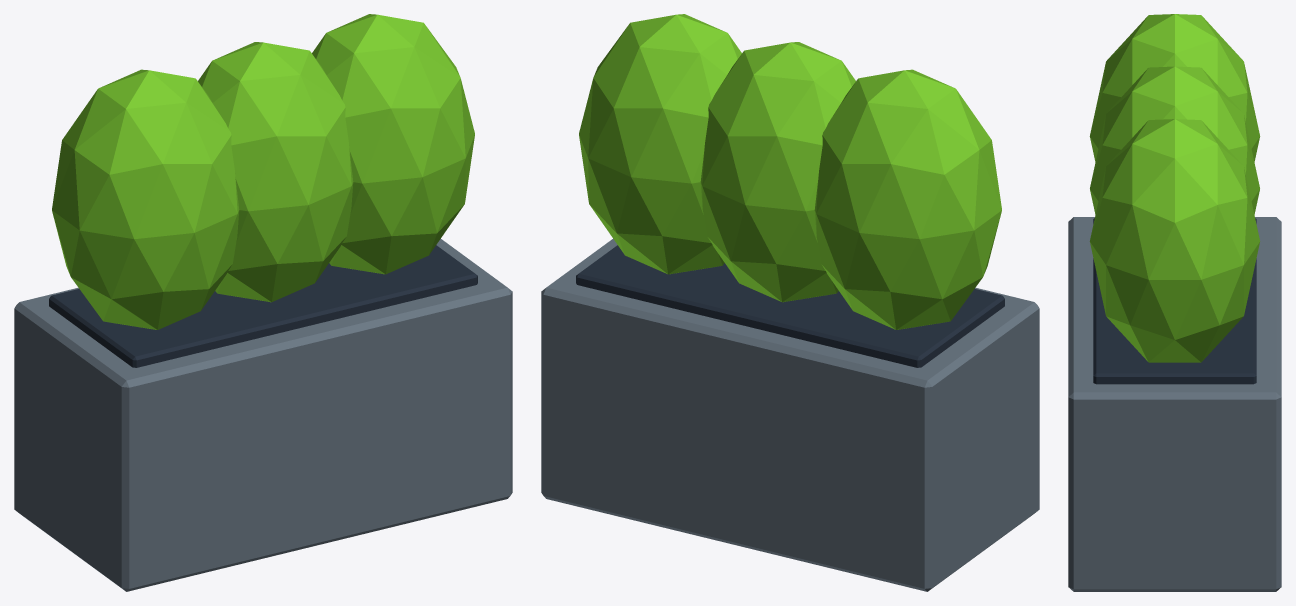
File: planter.glb
3 renders of one model, left to right at view 1: azimuth 30°, elevation 25°; view 2: azimuth 150°, elevation 25°; view 3: azimuth 270°, elevation 25°, orthographic. The views are drawn at different scales.
Parts seen in each view (by area): view 1: planter_Body; view 2: planter_Body; view 3: planter_Body.
Boxes of the visible parts, x1,y1,x2,y2 form: planter_Body: (14, 14, 512, 591); planter_Body: (541, 14, 1039, 591); planter_Body: (1068, 14, 1281, 591).
Size of the model in its own units: 1.21 by 1.36 by 0.6.
